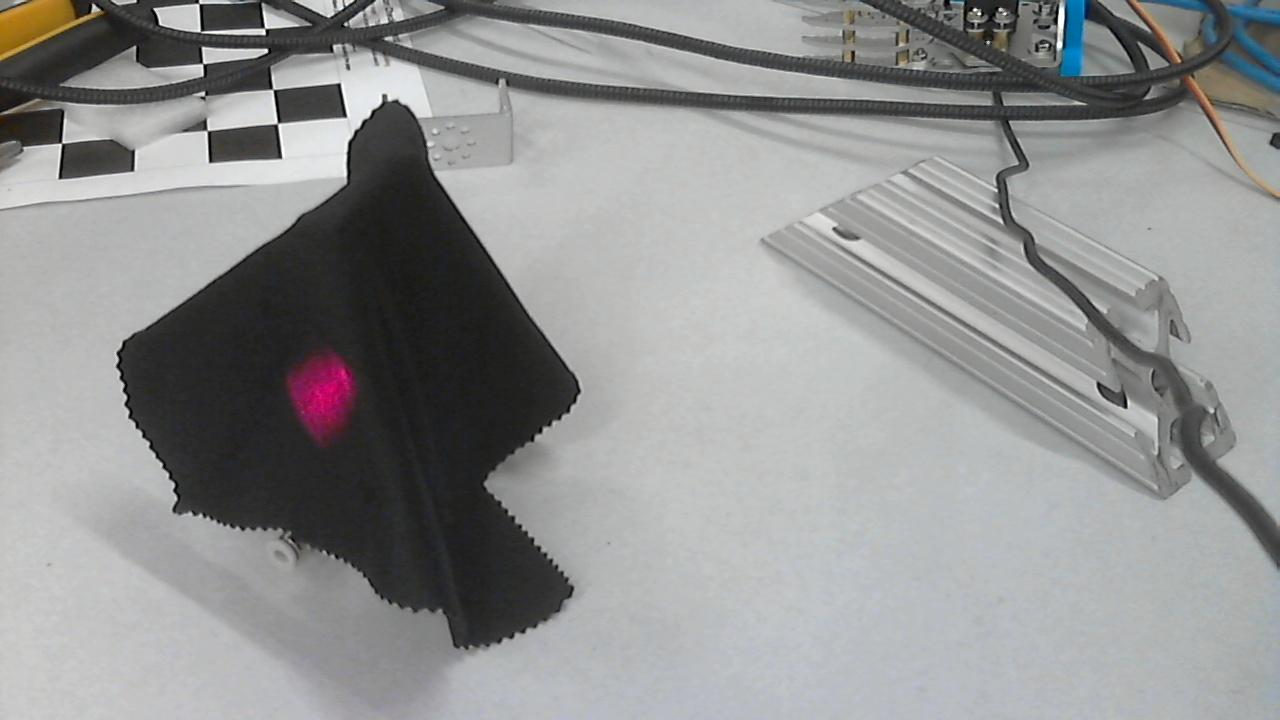Object microfiber cleaning cloth - Material fabric - Color black - Pdfname drQGv: (283, 344, 376, 454)
